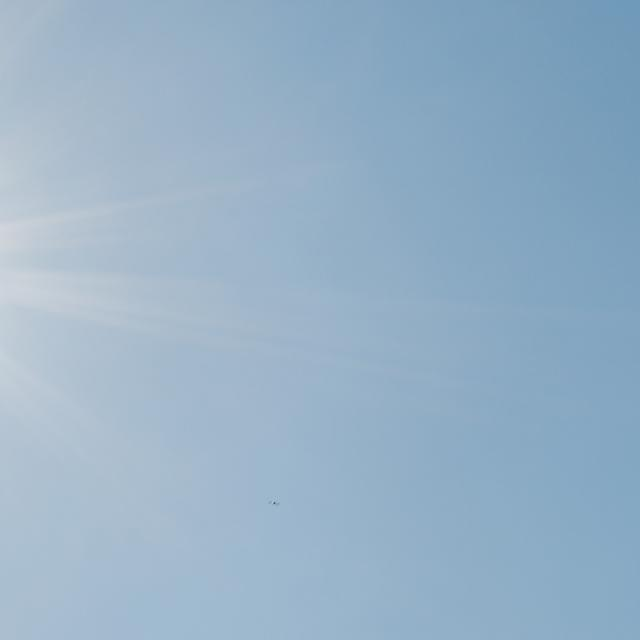Airaplan: (269, 501, 280, 506)
